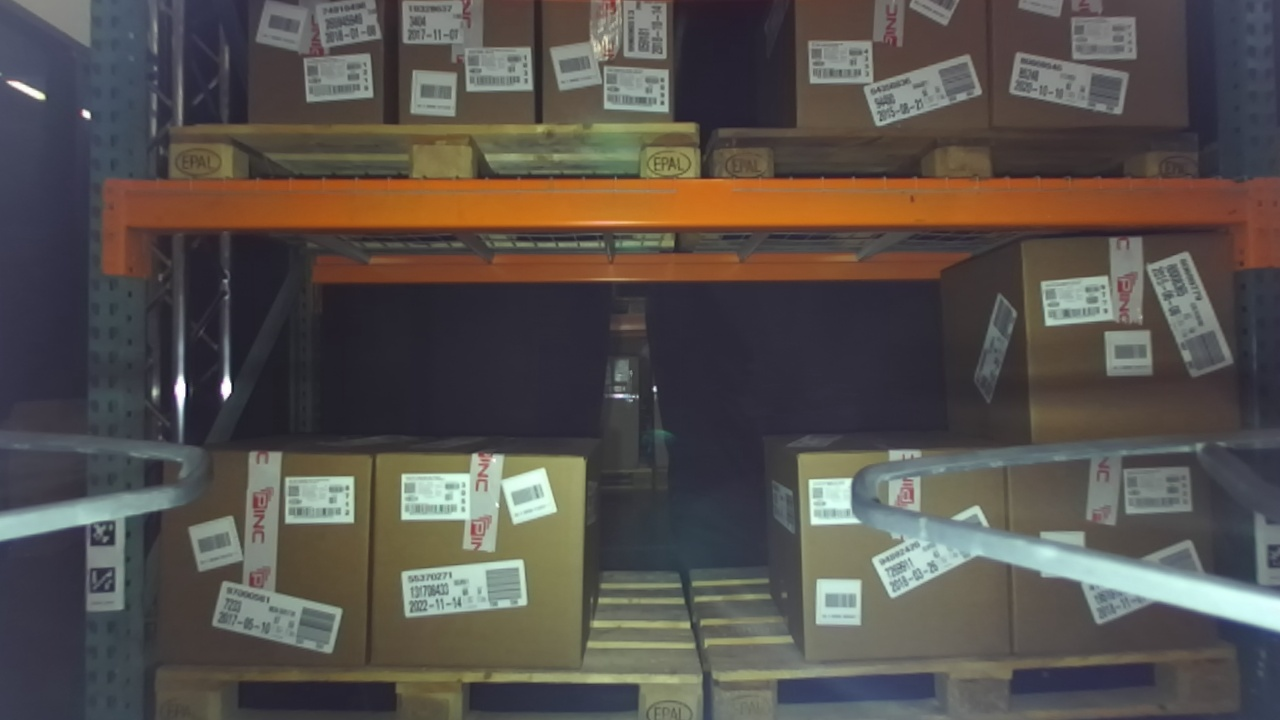box: (987, 198, 1257, 452), (980, 419, 1237, 685), (775, 426, 1033, 688), (146, 423, 385, 678), (364, 425, 597, 683), (770, 1, 1002, 158), (990, 4, 1200, 154), (224, 4, 405, 148), (383, 1, 551, 145), (526, 1, 692, 142)
